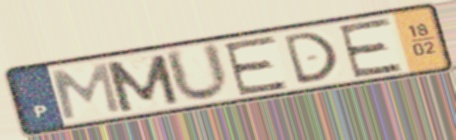D: (280, 29, 341, 87)
E: (220, 33, 292, 98), (335, 15, 407, 80)
M: (101, 51, 184, 115), (49, 60, 124, 122)
U: (160, 40, 234, 104)
